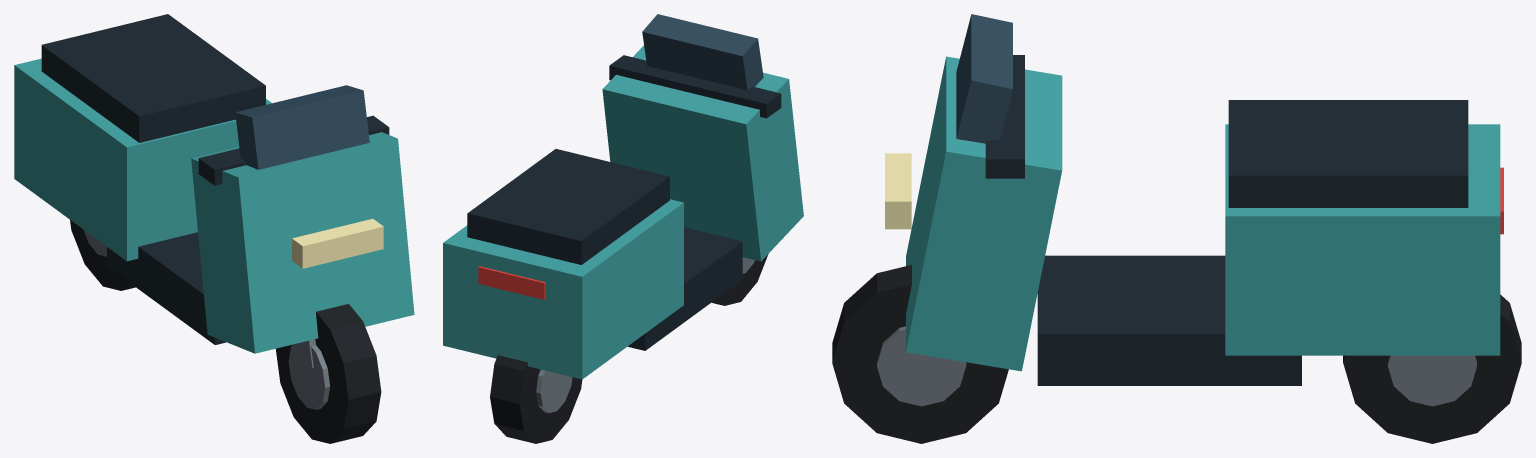
The model's file is haidian.glb.
3 renders of one model, left to right at view 1: azimuth 30°, elevation 25°; view 2: azimuth 150°, elevation 25°; view 3: azimuth 270°, elevation 25°, orthographic. The views are drawn at different scales.
Parts seen in each view (by area): view 1: front_apron, rear_shell, double_seat, wheel_F, windscreen, floorboard, headlight, hub_F, handlebar, wheel_R, front_fork; view 2: rear_shell, front_apron, double_seat, windscreen, floorboard, wheel_R, handlebar, taillight, hub_R, wheel_F; view 3: rear_shell, front_apron, floorboard, double_seat, wheel_F, wheel_R, windscreen, hub_F.001, hub_R.001, handlebar, headlight.
Boxes of the visible parts, box(x1,y1,x2,y2) form: front_apron: box(191, 132, 414, 353); rear_shell: box(14, 58, 271, 261); double_seat: box(41, 14, 265, 142); wheel_F: box(275, 304, 381, 443); windscreen: box(235, 85, 369, 169); floorboard: box(107, 232, 226, 344); headlight: box(292, 218, 383, 268); hub_F: box(288, 345, 330, 409); handlebar: box(198, 115, 389, 185); wheel_R: box(70, 220, 135, 290); front_fork: box(293, 339, 315, 368); rear_shell: box(443, 199, 683, 379); front_apron: box(602, 45, 803, 261); double_seat: box(467, 149, 669, 264); windscreen: box(642, 14, 763, 90); floorboard: box(628, 227, 742, 350); wheel_R: box(490, 355, 582, 443); handlebar: box(609, 55, 781, 118); taillight: box(478, 266, 545, 299); hub_R: box(536, 369, 572, 412); wheel_F: box(711, 254, 768, 305); rear_shell: box(1225, 124, 1500, 355); front_apron: box(906, 56, 1062, 371); floorboard: box(1037, 255, 1301, 385); double_seat: box(1228, 100, 1468, 207); wheel_F: box(832, 265, 1008, 443); wheel_R: box(1343, 294, 1521, 443); windscreen: box(956, 14, 1012, 143); hub_F.001: box(877, 326, 966, 406); hub_R.001: box(1387, 355, 1476, 406); handlebar: box(985, 55, 1024, 178); headlight: box(885, 153, 911, 229).
Size of the model in its own units: 0.69 by 1.19 by 1.93.
